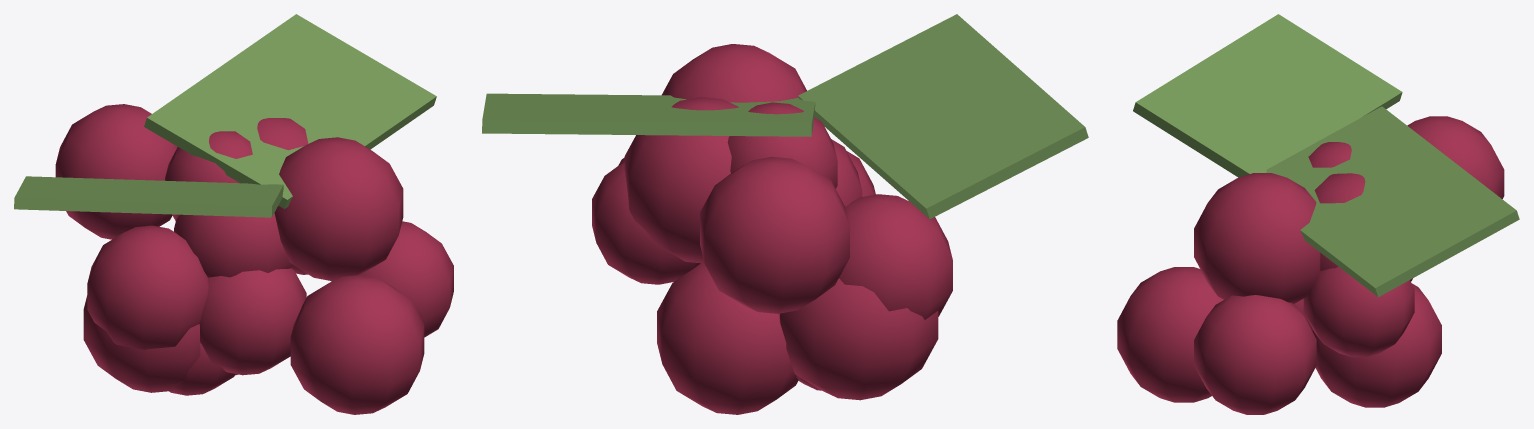
The model's file is berries.glb.
3 views of the same model, side by side, from view 1: azimuth 30°, elevation 25°; view 2: azimuth 150°, elevation 25°; view 3: azimuth 270°, elevation 25° (orthographic). The views are drawn at different scales.
Visible parts, largest first — view 1: leaf1, b4, b9, b10, b2, leaf2, b5, b6, b8, b13, b3, b7 (+1 smaller); view 2: leaf2, b5, b11, b13, leaf1, b1, b10, b9, b12, b3, b6; view 3: leaf1, leaf2, b9, b8, b4, b11, b12, b5, b1, b3.
Boxes of the visible parts, x1,y1,x2,y2 form: leaf1: (144, 14, 436, 208); b4: (290, 275, 424, 414); b9: (274, 137, 403, 280); b10: (87, 225, 208, 349); b2: (199, 268, 306, 375); leaf2: (14, 176, 283, 217); b5: (55, 104, 177, 239); b6: (174, 213, 292, 277); b8: (331, 221, 453, 337); b13: (83, 295, 200, 392); b3: (165, 131, 252, 220); b7: (169, 343, 235, 395); leaf2: (798, 14, 1088, 218); b5: (700, 157, 849, 313); b11: (657, 263, 798, 414); b13: (780, 278, 938, 400); leaf1: (482, 93, 815, 136); b1: (624, 97, 738, 263); b10: (839, 194, 952, 319); b9: (662, 44, 806, 102); b12: (592, 162, 700, 284); b3: (727, 102, 837, 188); b6: (831, 139, 862, 206); leaf1: (1266, 106, 1519, 297); leaf2: (1133, 14, 1402, 177); b9: (1194, 173, 1320, 303); b8: (1194, 295, 1316, 414); b4: (1117, 267, 1223, 402); b11: (1313, 283, 1441, 407); b12: (1303, 266, 1414, 357); b5: (1407, 116, 1504, 198); b1: (1314, 173, 1412, 281); b3: (1308, 142, 1351, 167).
Bounding box in the file's own units: 0.0952 × 0.052 × 0.0716.
